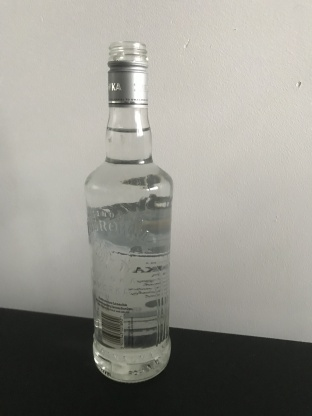nakretka: (105, 40, 150, 110)
